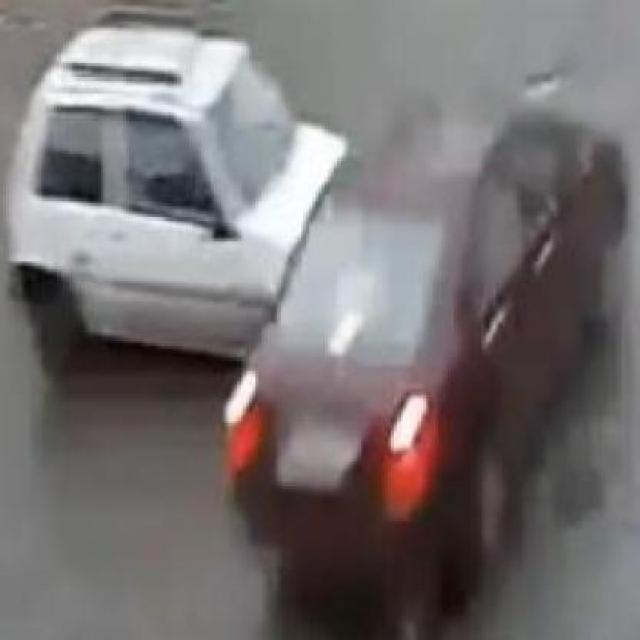accident: (15, 0, 640, 606)
